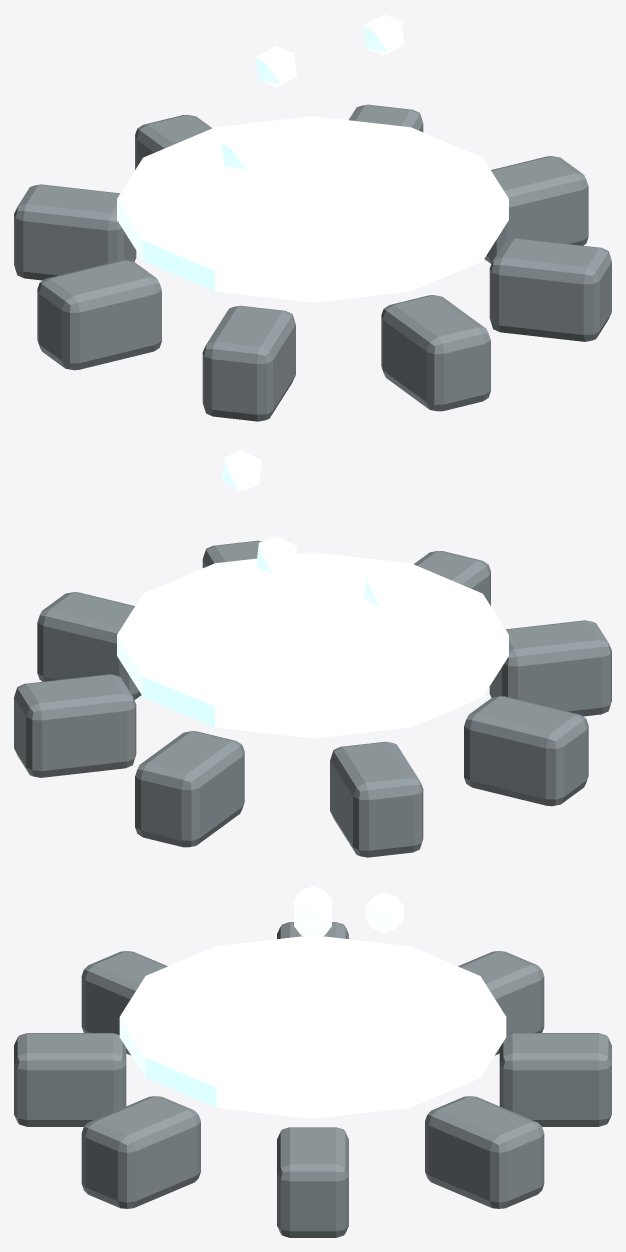
File: landmark_pale_well_v1.glb
The picture shows the model from 3 angles, top to bottom: view 1: azimuth 30°, elevation 25°; view 2: azimuth 150°, elevation 25°; view 3: azimuth 270°, elevation 25°; orthographic projection.
Visible parts, largest first — view 1: PaleWater, WellStone_04, WellStone_07, WellStone_06, WellStone_05, WellStone_03, WellStone_00, WellStone_02, GlowMote_1, GlowMote_2, GlowMote_0, WellStone_01; view 2: PaleWater, WellStone_04, WellStone_01, WellStone_02, WellStone_03, WellStone_05, WellStone_00, WellStone_06, GlowMote_1, GlowMote_2, GlowMote_0, WellStone_07; view 3: PaleWater, WellStone_01, WellStone_07, WellStone_02, WellStone_06, WellStone_00, WellStone_03, WellStone_05, GlowMote_1, GlowMote_2, WellStone_04, GlowMote_0.
Boxes of the visible parts, x1,y1,x2,y2 form: PaleWater: [117, 116, 508, 302]; WellStone_04: [37, 260, 161, 370]; WellStone_07: [489, 238, 611, 341]; WellStone_06: [381, 295, 490, 411]; WellStone_05: [202, 305, 295, 421]; WellStone_03: [14, 184, 136, 280]; WellStone_00: [484, 156, 588, 263]; WellStone_02: [135, 115, 211, 169]; GlowMote_1: [256, 46, 296, 87]; GlowMote_2: [364, 14, 404, 55]; GlowMote_0: [221, 132, 261, 172]; WellStone_01: [348, 104, 423, 131]; PaleWater: [117, 552, 508, 738]; WellStone_04: [464, 696, 588, 806]; WellStone_01: [14, 674, 136, 777]; WellStone_02: [135, 731, 244, 847]; WellStone_03: [330, 741, 423, 857]; WellStone_05: [489, 620, 611, 716]; WellStone_00: [37, 592, 141, 699]; WellStone_06: [414, 551, 490, 605]; GlowMote_1: [256, 536, 296, 576]; GlowMote_2: [221, 450, 261, 491]; GlowMote_0: [364, 568, 404, 608]; WellStone_07: [202, 540, 261, 567]; PaleWater: [119, 936, 506, 1118]; WellStone_01: [425, 1096, 544, 1208]; WellStone_07: [81, 1096, 200, 1208]; WellStone_02: [499, 1033, 611, 1126]; WellStone_06: [14, 1033, 126, 1126]; WellStone_00: [277, 1127, 348, 1237]; WellStone_03: [458, 951, 544, 1055]; WellStone_05: [81, 951, 167, 1055]; GlowMote_1: [365, 892, 403, 932]; GlowMote_2: [294, 886, 331, 926]; WellStone_04: [277, 922, 348, 938]; GlowMote_0: [294, 913, 331, 939].
Bounding box in the file's own units: 1.33 × 0.65 × 1.33.
